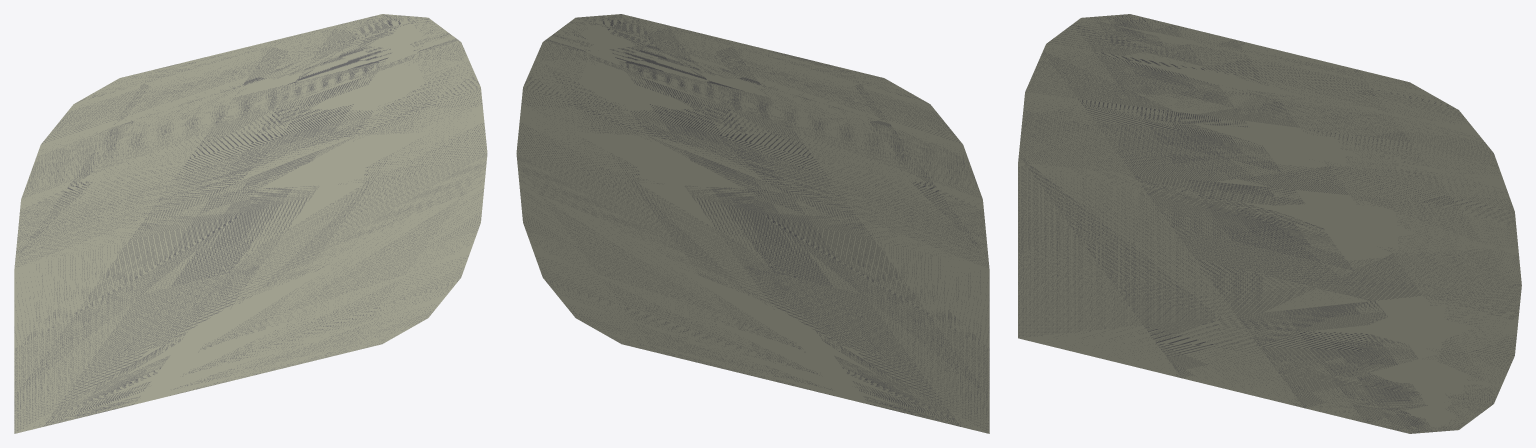
Rendered from original-62.obj.
3 renders of one model, left to right at view 1: azimuth 30°, elevation 25°; view 2: azimuth 150°, elevation 25°; view 3: azimuth 330°, elevation 25°, orthographic. The views are drawn at different scales.
Visible parts, largest first — view 1: part_1_2/part_1/mesh1/mesh1-geometry/material_3/component_10#mes; view 2: part_1_2/part_1/mesh1/mesh1-geometry/material_3/component_10#mes; view 3: part_1_2/part_1/mesh1/mesh1-geometry/material_3/component_10#mes.
Part boxes in pixels (x1=…): part_1_2/part_1/mesh1/mesh1-geometry/material_3/component_10#mes: x1=14, y1=14, x2=487, y2=433; part_1_2/part_1/mesh1/mesh1-geometry/material_3/component_10#mes: x1=516, y1=14, x2=989, y2=433; part_1_2/part_1/mesh1/mesh1-geometry/material_3/component_10#mes: x1=1018, y1=14, x2=1521, y2=433.
Bounding box in the file's own units: 0.035 × 0.0234 × 0.
